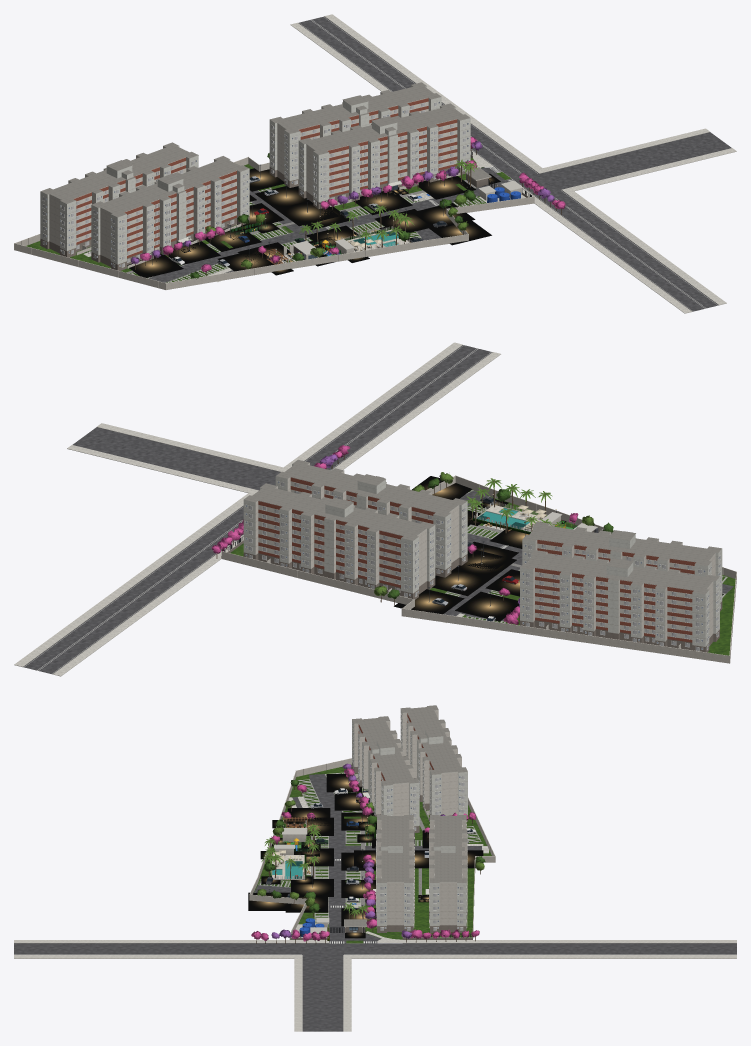
Rendered from ipiranga.glb.
3 renders of one model, top to bottom at view 1: azimuth 30°, elevation 25°; view 2: azimuth 150°, elevation 25°; view 3: azimuth 270°, elevation 25°, orthographic. The views are drawn at different scales.
Visible parts, largest first — view 1: entorno-rua, lazer, terreno, torre-1, torre-3, torre-4, torre-2, vegetacao, unidades, carros, moveis; view 2: entorno-rua, torre-4, torre-2, terreno, lazer, torre-1, torre-3, unidades, vegetacao; view 3: entorno-rua, terreno, lazer, torre-4, torre-3, vegetacao, torre-2, torre-1, unidades, carros.
Part boxes in pixels (box(x1,y1,x2,y2)): entorno-rua: box(290, 14, 736, 313); lazer: box(127, 164, 523, 277); terreno: box(14, 151, 534, 289); torre-1: box(298, 103, 470, 209); torre-3: box(91, 156, 249, 270); torre-4: box(40, 142, 198, 257); torre-2: box(269, 82, 441, 187); vegetacao: box(131, 137, 565, 279); unidades: box(42, 102, 465, 267); carros: box(171, 176, 447, 266); moveis: box(87, 190, 397, 264); entorno-rua: box(14, 342, 500, 676); torre-4: box(520, 550, 719, 652); torre-2: box(243, 483, 435, 599); terreno: box(221, 475, 736, 663); lazer: box(394, 475, 723, 621); torre-1: box(275, 459, 467, 577); torre-3: box(522, 522, 722, 611); unidades: box(248, 482, 720, 651); vegetacao: box(211, 445, 613, 624); entorno-rua: box(14, 940, 736, 1031); terreno: box(249, 758, 495, 943); lazer: box(248, 770, 483, 941); torre-4: box(400, 705, 467, 821); torre-3: box(352, 716, 419, 832); vegetacao: box(251, 763, 485, 943); torre-2: box(420, 815, 467, 932); torre-1: box(373, 815, 414, 932); unidades: box(353, 714, 464, 930); carros: box(266, 788, 476, 902).
Size of what is drawn, in the model's own units: 238 by 22.03 by 253.
134 materials, 68 textured.
